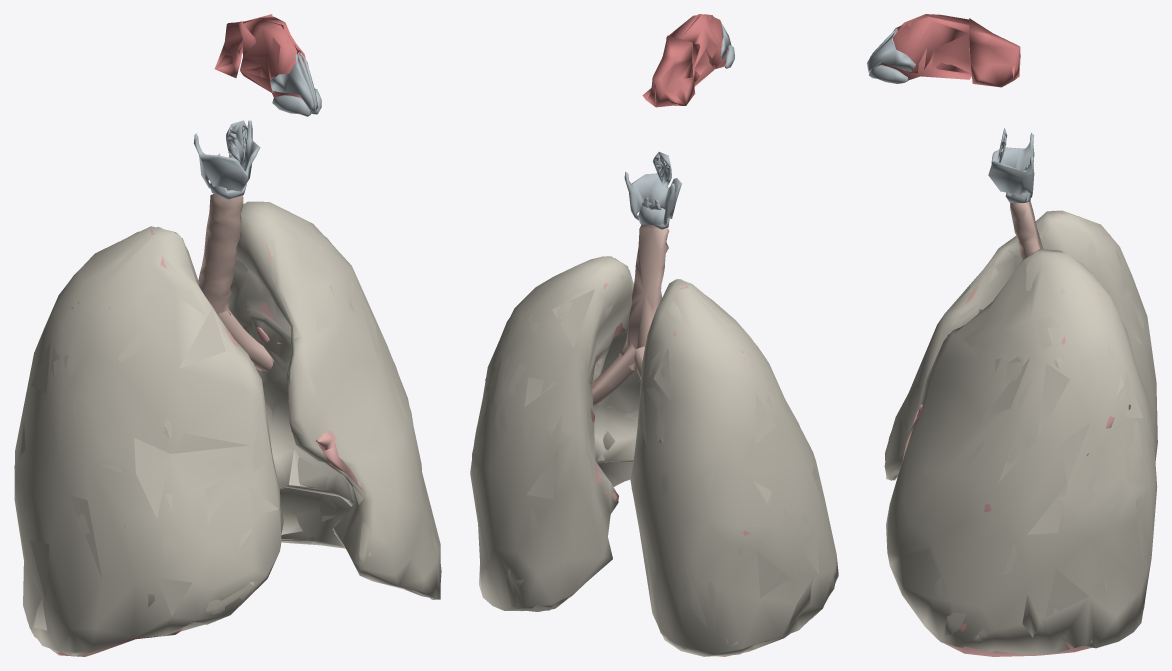
The model's file is adult_male.respiratory.LOD3.glb.
3 views of the same model, side by side, from view 1: azimuth 30°, elevation 25°; view 2: azimuth 150°, elevation 25°; view 3: azimuth 270°, elevation 25° (orthographic). The views are drawn at different scales.
Parts seen in each view (by area): view 1: ADULT.MALE.RESPIRATORY.PLEURA, ADULT.MALE.RESPIRATORY.TRACHEA, ADULT.MALE.RESPIRATORY.MUCOSA_OF_NASAL_CAVITY, ADULT.MALE.RESPIRATORY.THYROID_CARTILAGE, ADULT.MALE.RESPIRATORY.NASOPHARYNX, ADULT.MALE.RESPIRATORY.LEFT_MAIN_BRONCHUS, ADULT.MALE.RESPIRATORY.SUPERIOR_LOBE_OF_LEFT_LUNG, ADULT.MALE.RESPIRATORY.LATERAL_PROCESS_OF_NASAL_SEPTAL_CARTI, ADULT.MALE.RESPIRATORY.EPIGLOTTIS; view 2: ADULT.MALE.RESPIRATORY.PLEURA, ADULT.MALE.RESPIRATORY.TRACHEA, ADULT.MALE.RESPIRATORY.NASOPHARYNX, ADULT.MALE.RESPIRATORY.MUCOSA_OF_NASAL_CAVITY, ADULT.MALE.RESPIRATORY.THYROID_CARTILAGE, ADULT.MALE.RESPIRATORY.LEFT_MAIN_BRONCHUS; view 3: ADULT.MALE.RESPIRATORY.PLEURA, ADULT.MALE.RESPIRATORY.MUCOSA_OF_NASAL_CAVITY, ADULT.MALE.RESPIRATORY.NASOPHARYNX, ADULT.MALE.RESPIRATORY.THYROID_CARTILAGE, ADULT.MALE.RESPIRATORY.TRACHEA, ADULT.MALE.RESPIRATORY.LATERAL_PROCESS_OF_NASAL_SEPTAL_CARTI, ADULT.MALE.RESPIRATORY.INFERIOR_LOBE_OF_LEFT_LUNG, ADULT.MALE.RESPIRATORY.MAJOR_ALAR_CARTILAGE.L.
Boxes of the visible parts, x1,y1,x2,y2 form: ADULT.MALE.RESPIRATORY.PLEURA: [14, 201, 441, 656]; ADULT.MALE.RESPIRATORY.TRACHEA: [198, 188, 243, 315]; ADULT.MALE.RESPIRATORY.MUCOSA_OF_NASAL_CAVITY: [240, 16, 306, 98]; ADULT.MALE.RESPIRATORY.THYROID_CARTILAGE: [194, 120, 260, 191]; ADULT.MALE.RESPIRATORY.NASOPHARYNX: [214, 14, 272, 77]; ADULT.MALE.RESPIRATORY.LEFT_MAIN_BRONCHUS: [218, 309, 272, 370]; ADULT.MALE.RESPIRATORY.SUPERIOR_LOBE_OF_LEFT_LUNG: [247, 243, 365, 573]; ADULT.MALE.RESPIRATORY.LATERAL_PROCESS_OF_NASAL_SEPTAL_CARTI: [270, 54, 314, 112]; ADULT.MALE.RESPIRATORY.EPIGLOTTIS: [226, 120, 247, 167]; ADULT.MALE.RESPIRATORY.PLEURA: [470, 256, 838, 656]; ADULT.MALE.RESPIRATORY.TRACHEA: [619, 224, 669, 370]; ADULT.MALE.RESPIRATORY.NASOPHARYNX: [642, 35, 695, 107]; ADULT.MALE.RESPIRATORY.MUCOSA_OF_NASAL_CAVITY: [666, 14, 727, 86]; ADULT.MALE.RESPIRATORY.THYROID_CARTILAGE: [624, 172, 681, 226]; ADULT.MALE.RESPIRATORY.LEFT_MAIN_BRONCHUS: [591, 343, 635, 405]; ADULT.MALE.RESPIRATORY.PLEURA: [884, 210, 1157, 654]; ADULT.MALE.RESPIRATORY.MUCOSA_OF_NASAL_CAVITY: [878, 14, 971, 79]; ADULT.MALE.RESPIRATORY.NASOPHARYNX: [969, 18, 1020, 87]; ADULT.MALE.RESPIRATORY.THYROID_CARTILAGE: [988, 133, 1034, 201]; ADULT.MALE.RESPIRATORY.TRACHEA: [1010, 200, 1043, 259]; ADULT.MALE.RESPIRATORY.LATERAL_PROCESS_OF_NASAL_SEPTAL_CARTI: [867, 30, 915, 72]; ADULT.MALE.RESPIRATORY.INFERIOR_LOBE_OF_LEFT_LUNG: [945, 623, 1091, 656]; ADULT.MALE.RESPIRATORY.MAJOR_ALAR_CARTILAGE.L: [869, 65, 908, 83].
Bounding box in the file's own units: 0.2639 × 0.4308 × 0.2005.
